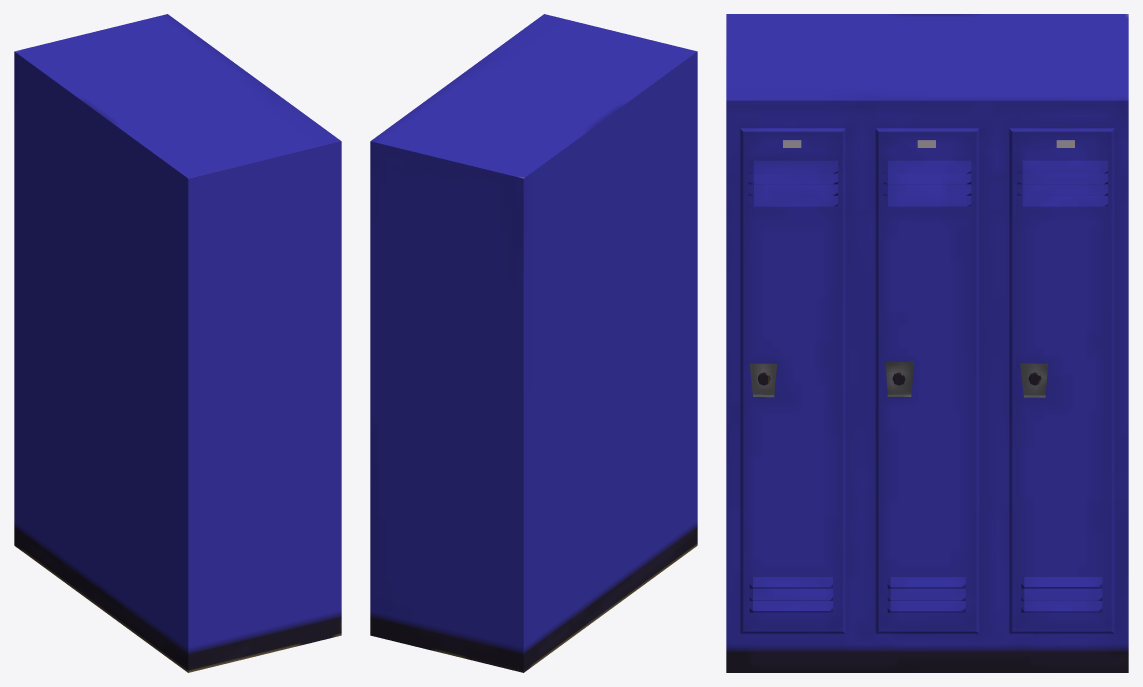
File: School locker4.fbx
The picture shows the model from 3 angles, left to right: view 1: azimuth 30°, elevation 25°; view 2: azimuth 150°, elevation 25°; view 3: azimuth 270°, elevation 25°; orthographic projection. The views are drawn at different scales.
Parts seen in each view (by area): view 1: School locker4; view 2: School locker4; view 3: School locker4.
Part boxes in pixels (box(x1,y1,x2,y2)): School locker4: box(14, 14, 341, 672); School locker4: box(370, 14, 697, 672); School locker4: box(726, 14, 1128, 672).
Size of the model in its own units: 291 by 875 by 558.
1 material, 1 textured.
